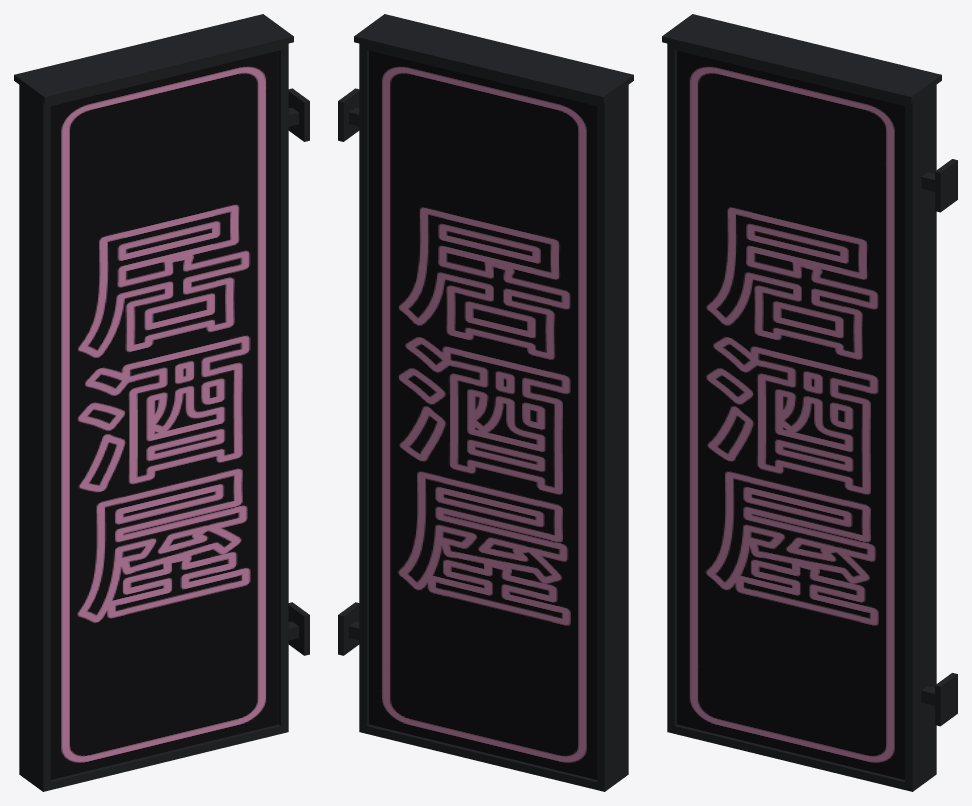
File: sign-v-35.obj
The picture shows the model from 3 angles, left to right: view 1: azimuth 30°, elevation 25°; view 2: azimuth 150°, elevation 25°; view 3: azimuth 330°, elevation 25°; orthographic projection.
Visible parts, largest first — view 1: sign-v-35; view 2: sign-v-35; view 3: sign-v-35.
Part boxes in pixels (x1=…): sign-v-35: x1=14, y1=14, x2=309, y2=791; sign-v-35: x1=338, y1=14, x2=633, y2=791; sign-v-35: x1=662, y1=14, x2=957, y2=791.
Bounding box in the file's own units: 1.44 × 3.53 × 0.28.
